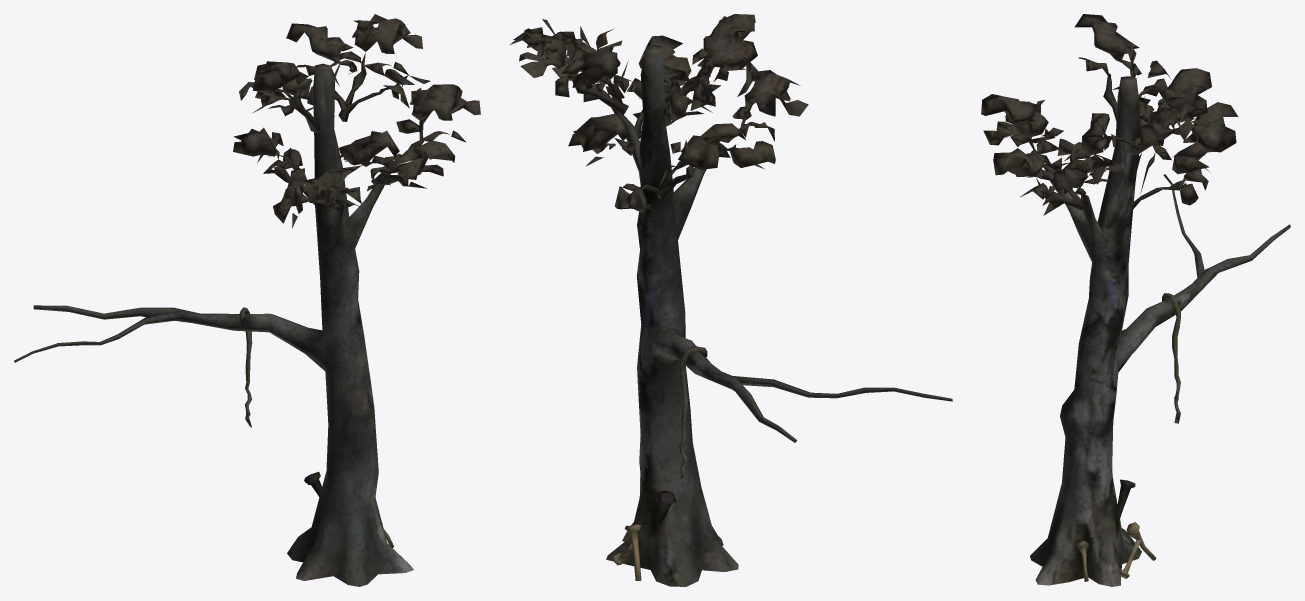
The model's file is prop_node_hangman_elm.glb.
3 renders of one model, left to right at view 1: azimuth 30°, elevation 25°; view 2: azimuth 150°, elevation 25°; view 3: azimuth 270°, elevation 25°, orthographic. The views are drawn at different scales.
Parts seen in each view (by area): view 1: tripo_node_1fb549d2-b765-48a7-ada8-a89ac5f92cad; view 2: tripo_node_1fb549d2-b765-48a7-ada8-a89ac5f92cad; view 3: tripo_node_1fb549d2-b765-48a7-ada8-a89ac5f92cad.
Boxes of the visible parts, x1=… form: tripo_node_1fb549d2-b765-48a7-ada8-a89ac5f92cad: x1=14, y1=14, x2=480, y2=586; tripo_node_1fb549d2-b765-48a7-ada8-a89ac5f92cad: x1=510, y1=14, x2=952, y2=586; tripo_node_1fb549d2-b765-48a7-ada8-a89ac5f92cad: x1=981, y1=14, x2=1290, y2=586.
Size of the model in its own units: 0.8535 by 0.998 by 0.5449.
1 material, 1 textured.
